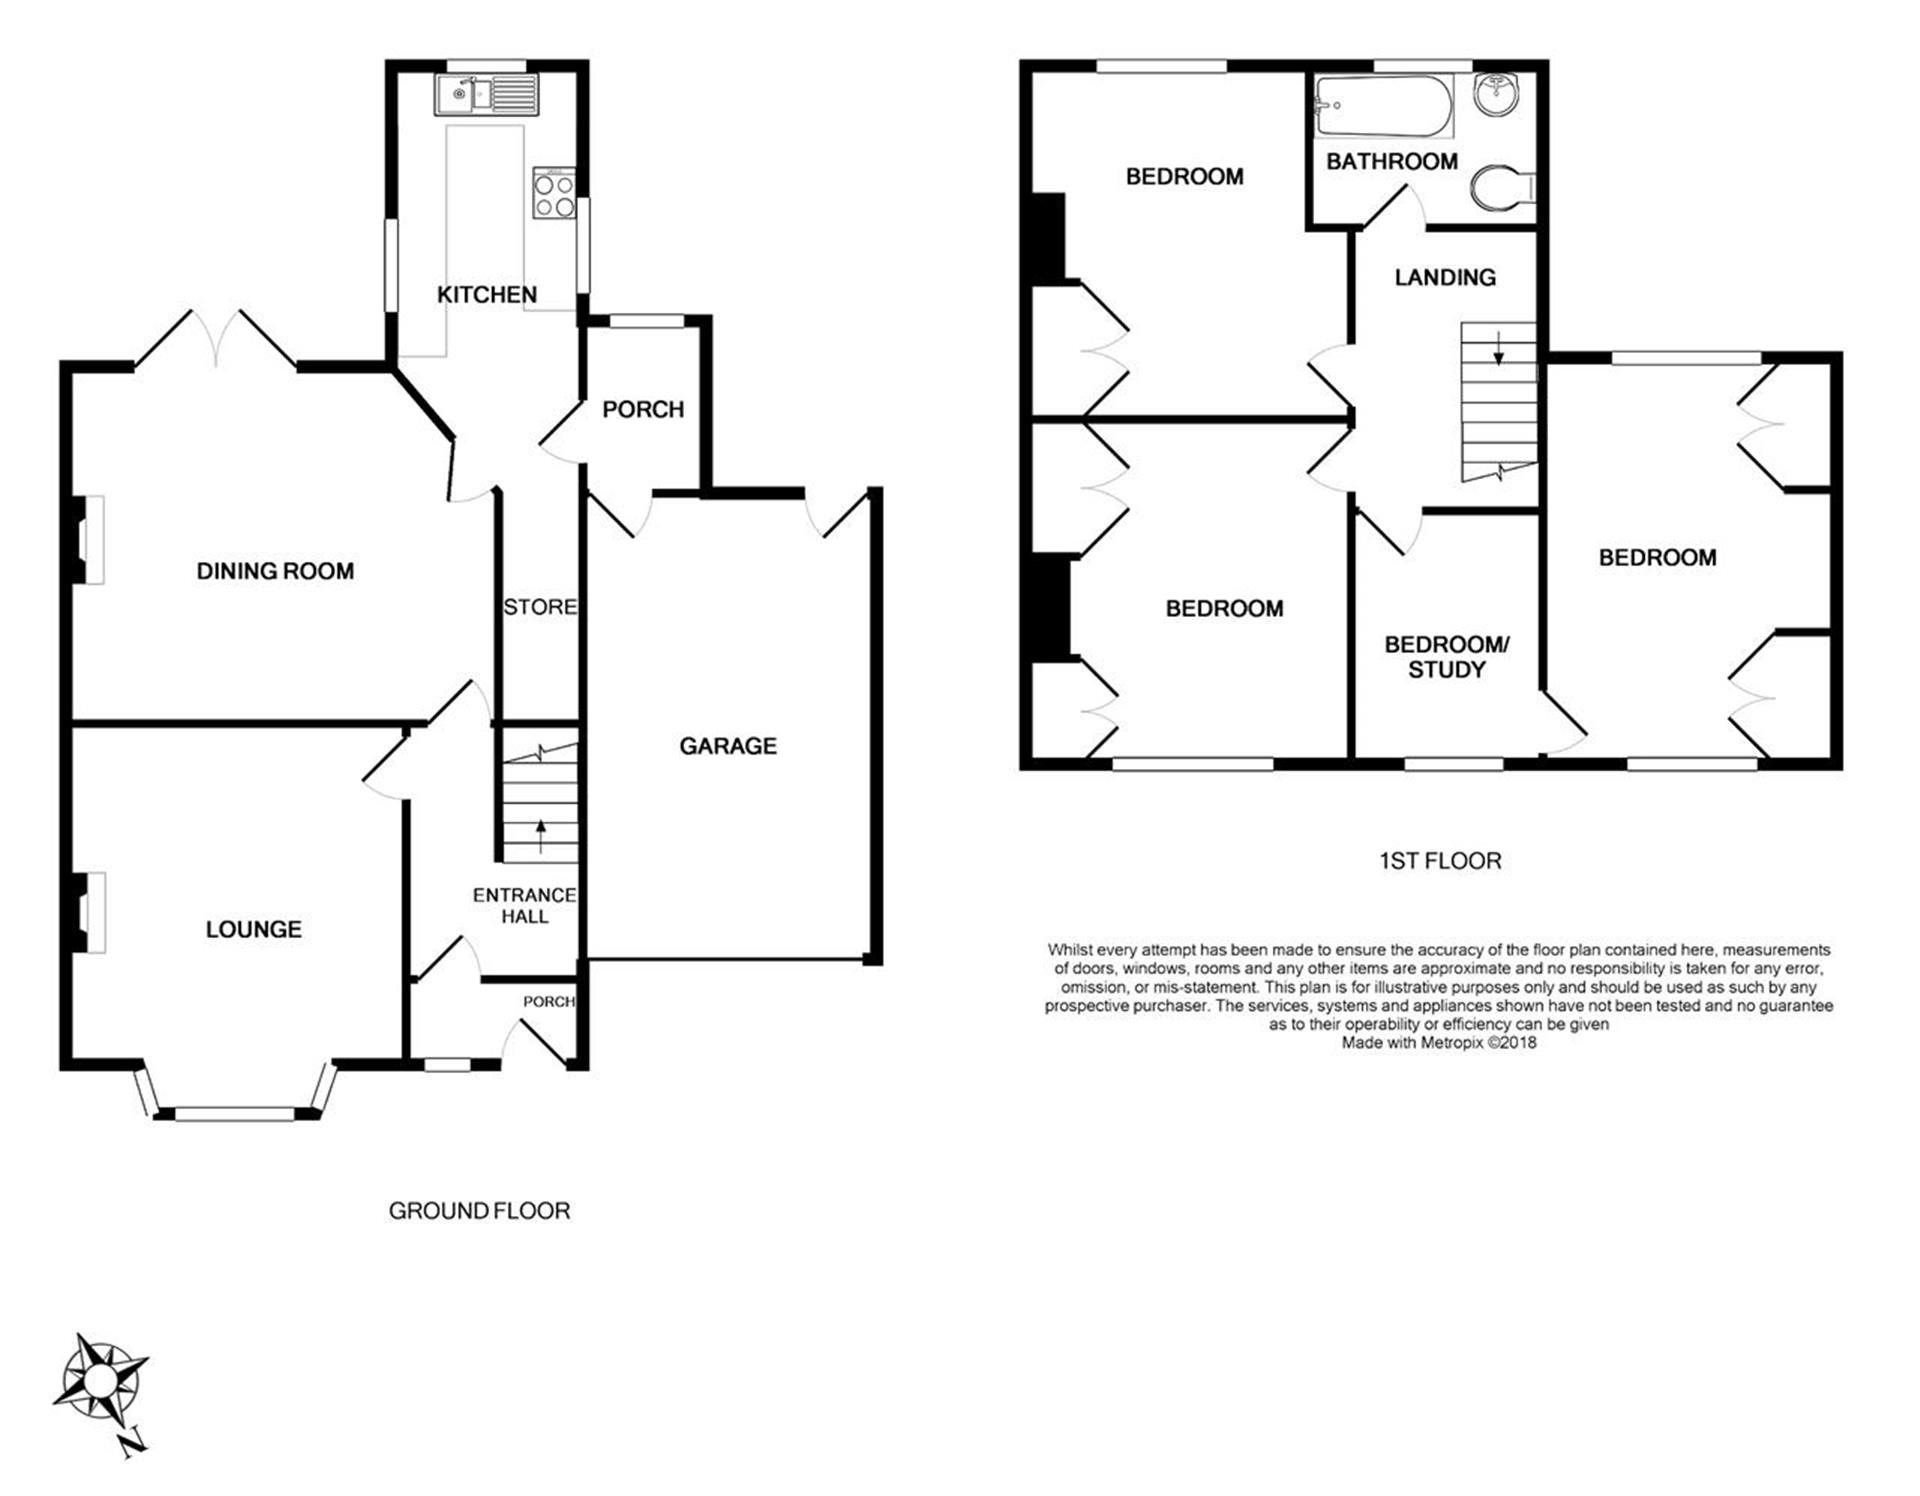room: (59, 363, 492, 729), (1541, 355, 1845, 771), (62, 722, 413, 1067), (1024, 61, 1351, 427), (1021, 416, 1345, 771), (388, 61, 591, 319), (1351, 505, 1538, 768), (1308, 59, 1548, 234)
